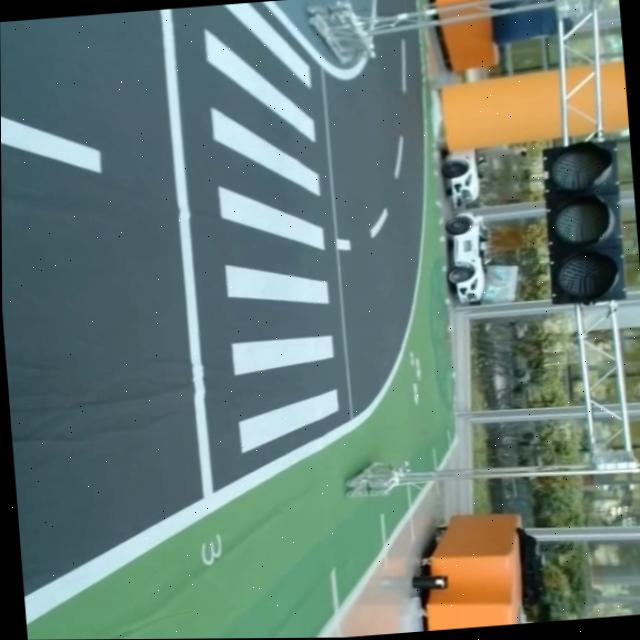traffic-light: (536, 128, 635, 315)
